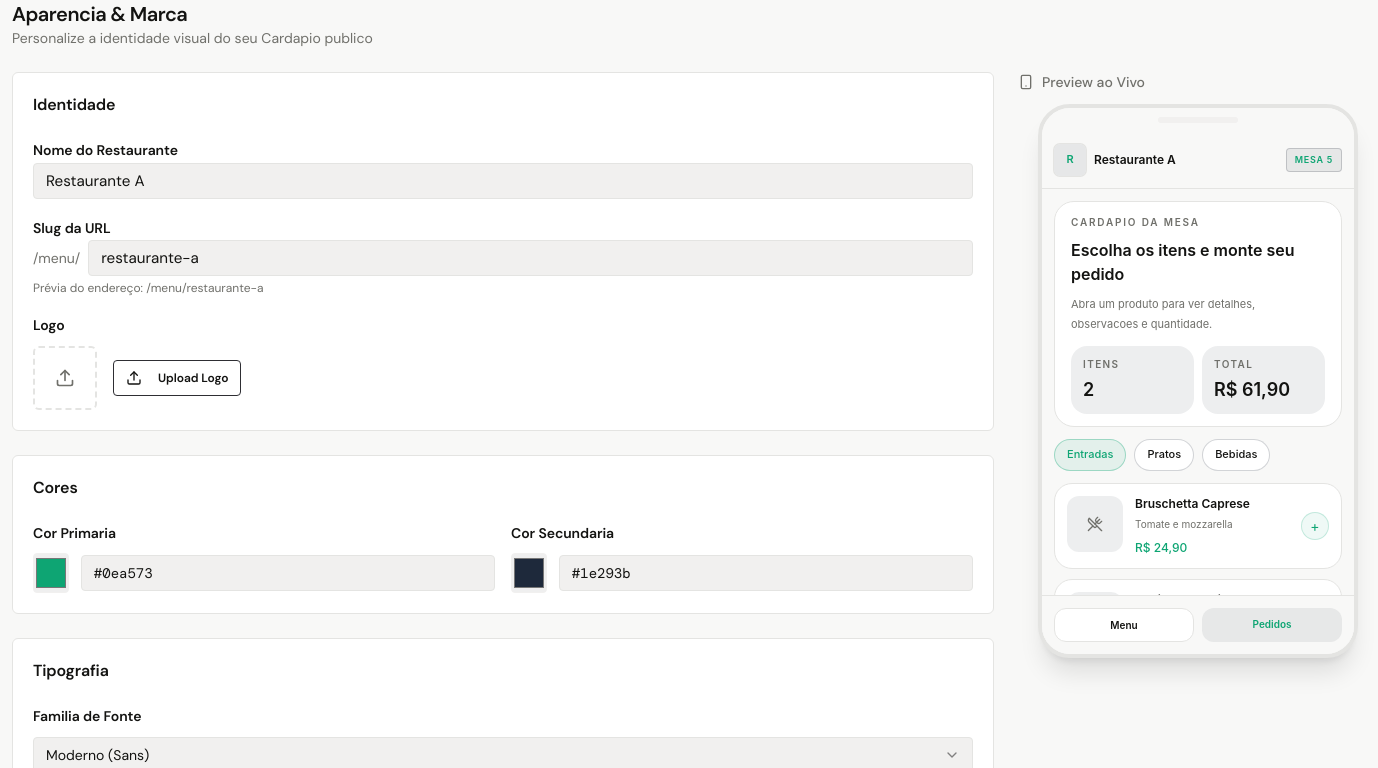
Test: a concurrent save conflict is inline even after a positive availability check
The image size is (1378, 768).
Replace the text in the field showing "restaurante-a" with "livre-antes": (531, 258) [88,240,973,276]
(page scrolled)
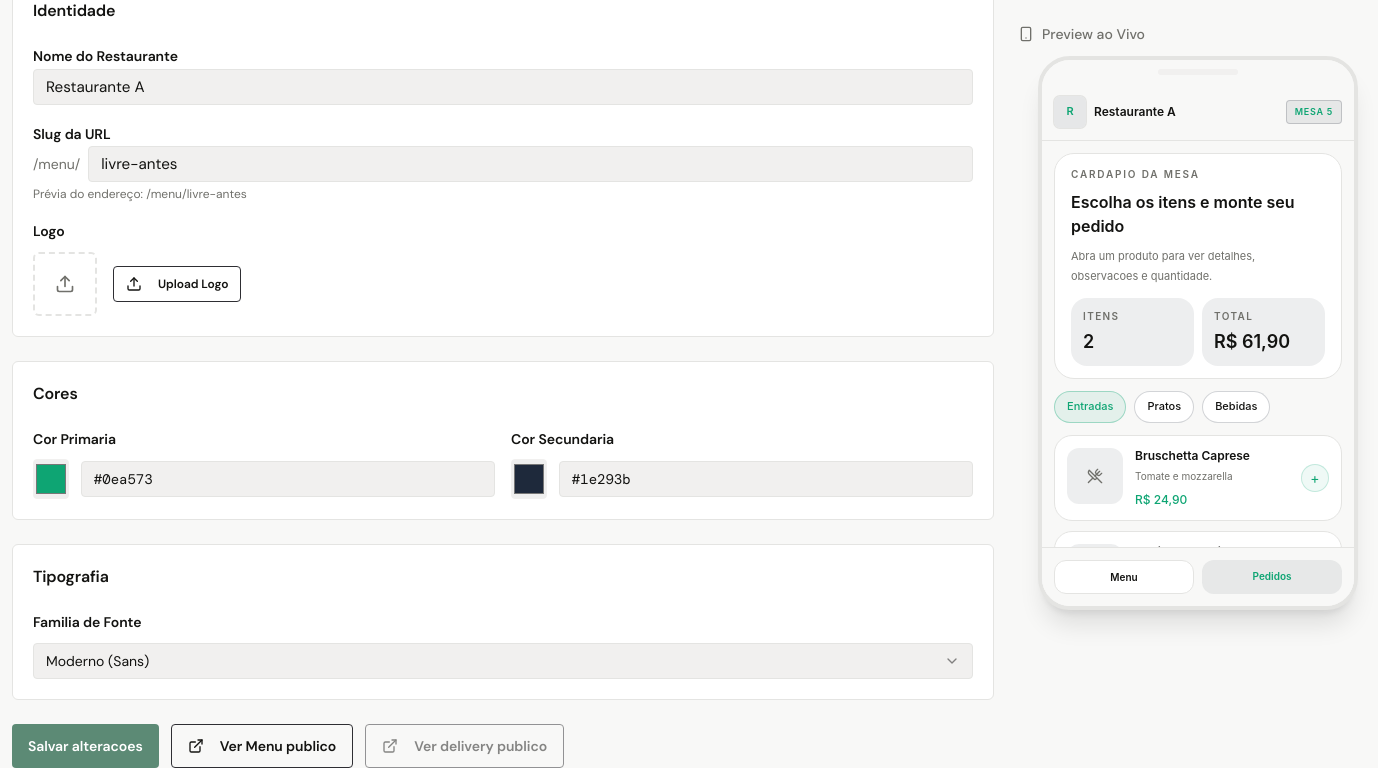
Click the button "Salvar alteracoes": (85, 746) [12,724,159,767]
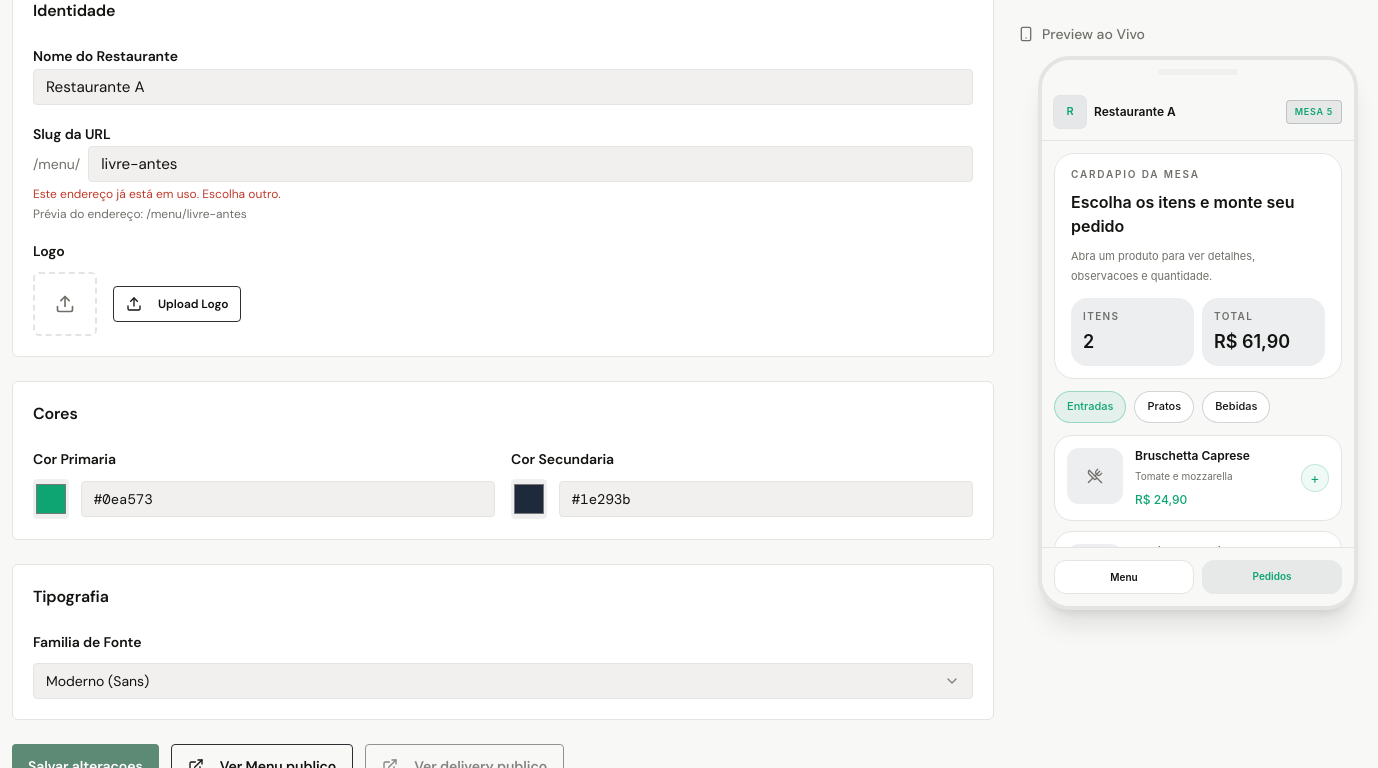
Expected: the text "Este endereço já está em uso. Escolha outro." is shown, [33,186,281,202]
